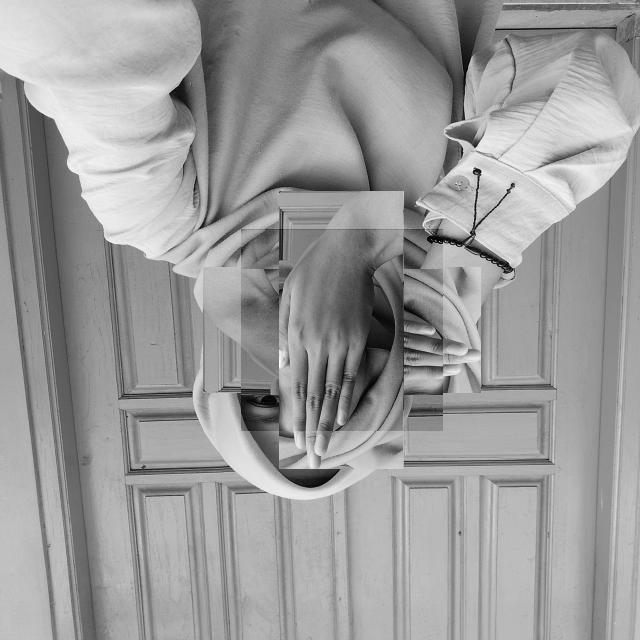buruk: (241, 228, 443, 431)
